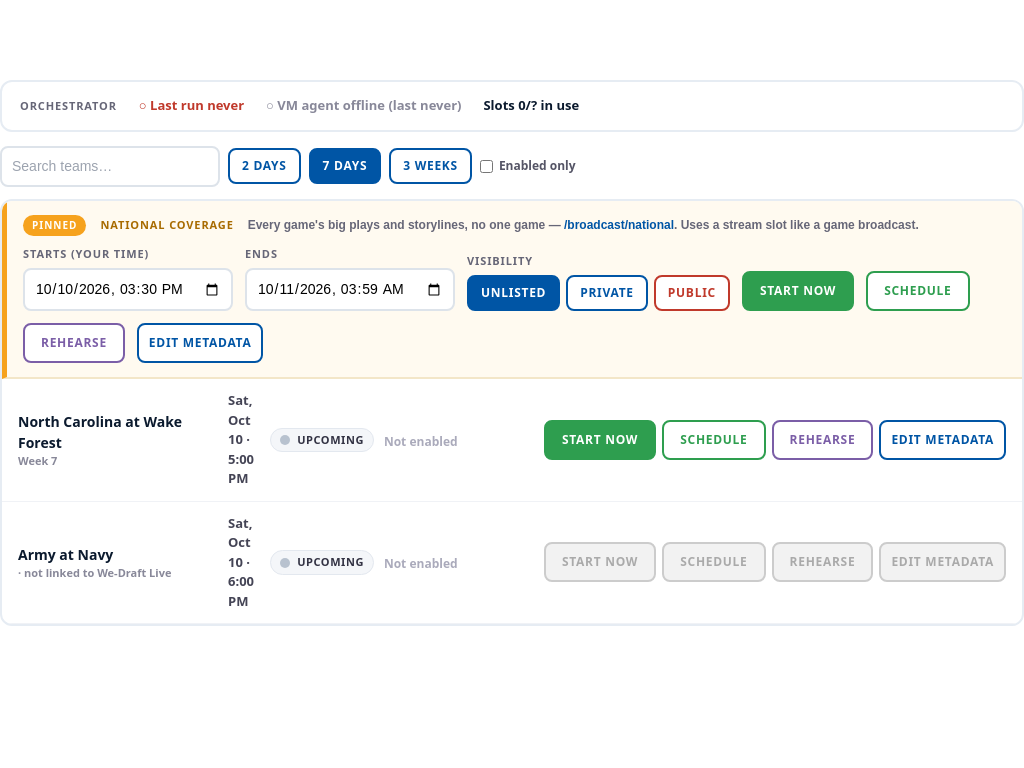
it: Edit Metadata › opens for a game that isn't enabled and has no broadcast: the defaults, read-only
Step 1. Click the button "Edit Metadata" in the row of "Wake Forest" → (943, 440), box [879,420,1006,460]
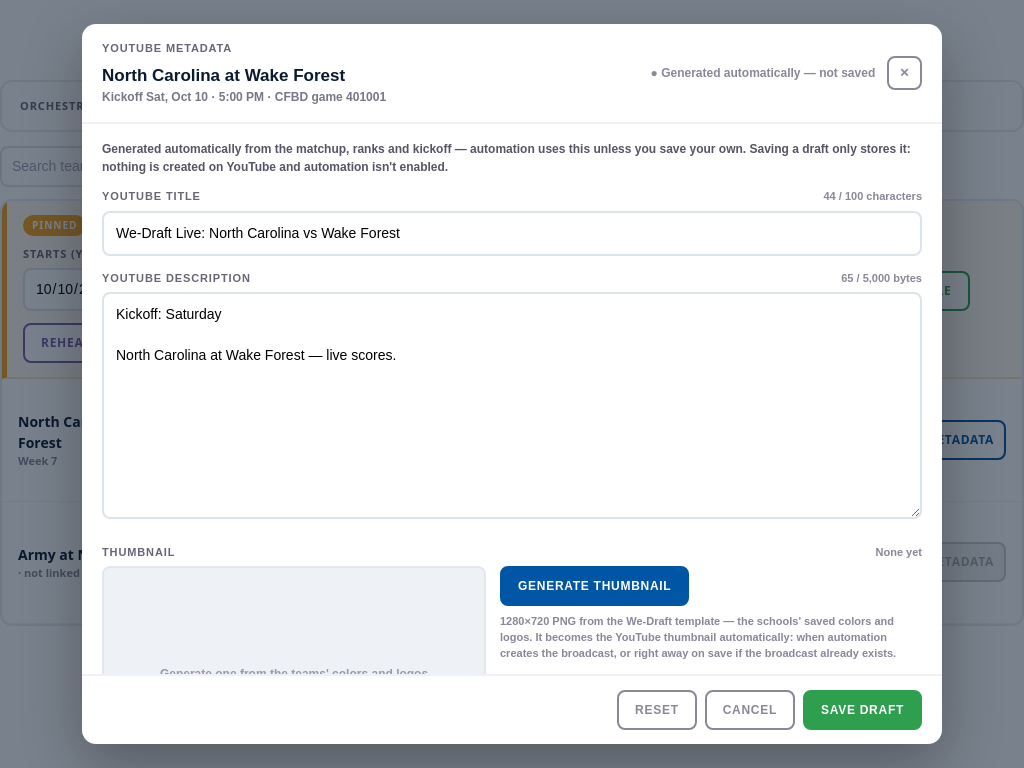
Result: the field showing "We-Draft Live: North Carolina vs Wake Forest" is shown at [102,210,922,256]
Result: the text with test id "metadata-status" shows "Generated automatically" at [661,66,875,80]
Result: the text "Generated automatically from the matchup, ranks and kickoff" is shown at [102,142,911,174]
